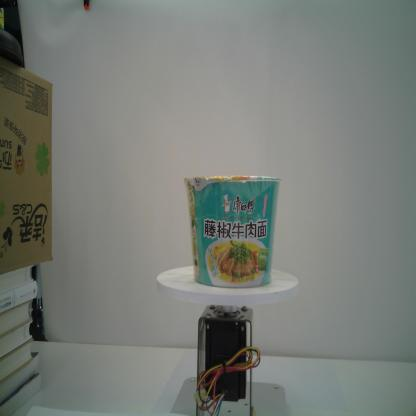Instant Noodles: (182, 172, 286, 291)
